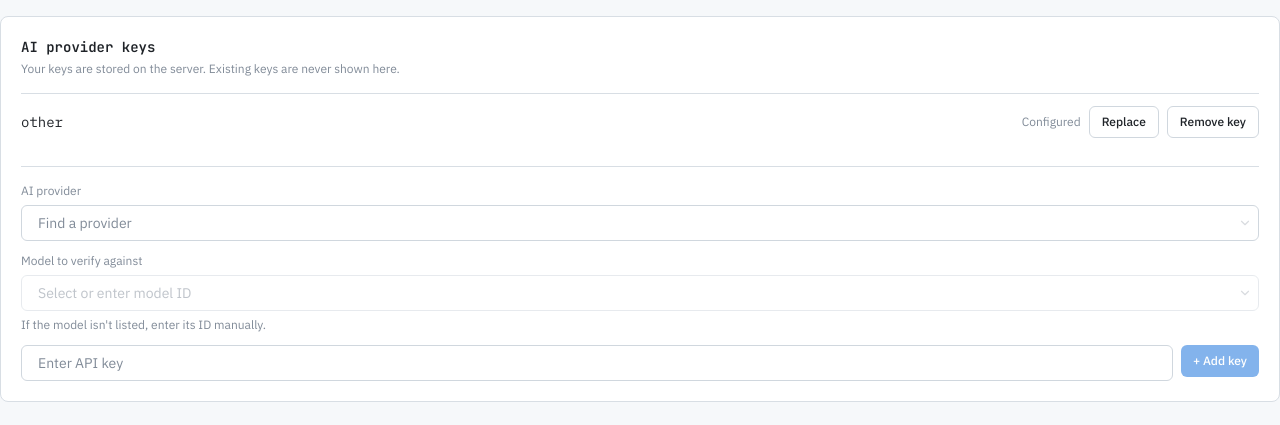
Test case: AiCredentials › keeps the configured key after inconclusive verification
The width and height of the screenshot is (1280, 425).
Click the button with aria-label "Replace other key" at x=1124, y=122, box [1089,106,1159,138]
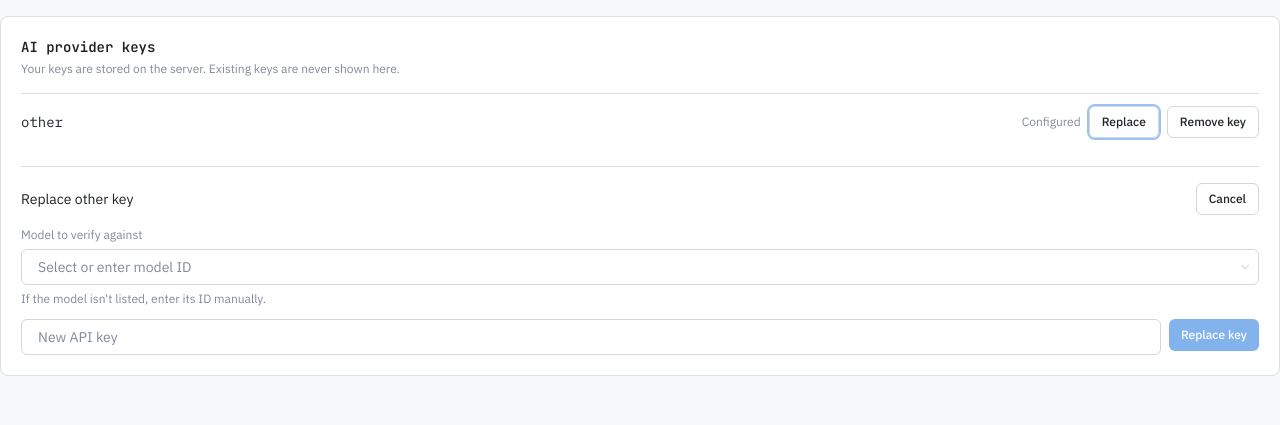
Type "manual-model" into the dropdown named "Verification model" at x=640, y=267, box [21,249,1259,285]
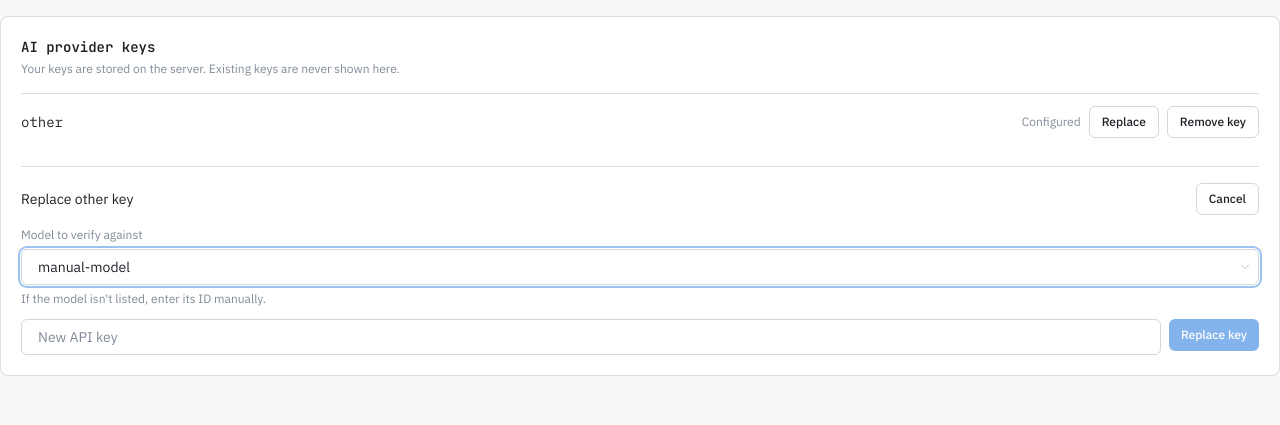
Type "replacement" into the password field labelled "API key" at x=591, y=337, box [21,319,1161,355]
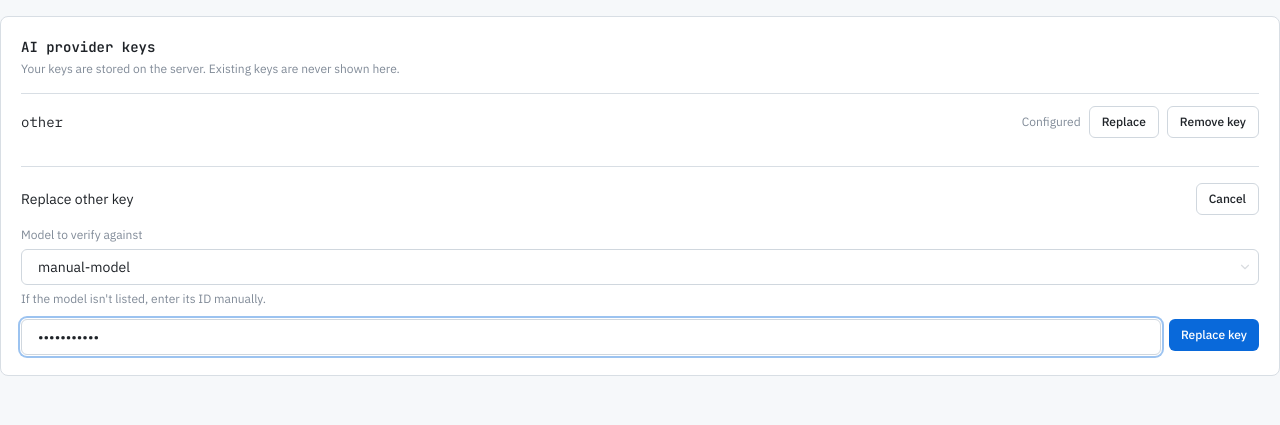
Click the button "Replace key" at x=1214, y=335, box [1169,319,1259,351]
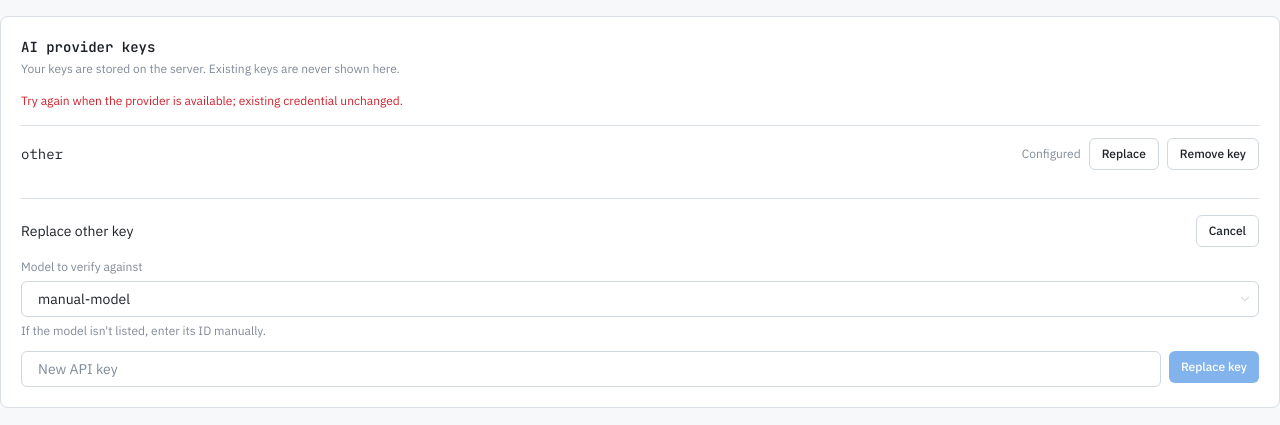
expect the text "Replace other key" is shown: met, box [21,221,133,241]
expect the message shows "Try again when the provider is available": met, box [21,93,403,108]
expect the password field labelled "API key" is empty: met, box [21,351,1161,387]
